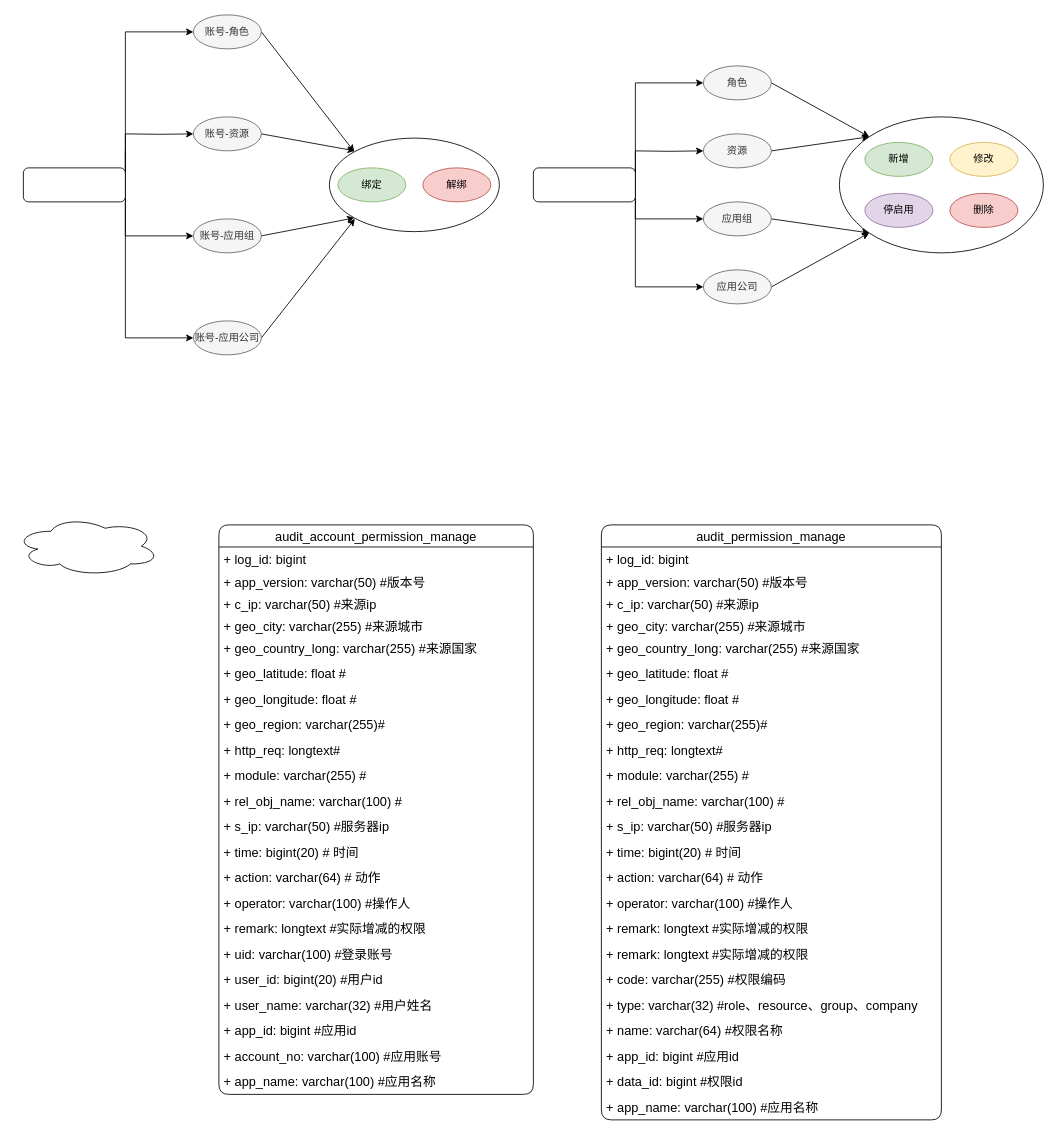
The diagram is 1058 pixels wide and 1137 high, and some of its shapes have lost their labels. Here are the shapes that lost their labels. From the top down, the centre of each, then its label:
the point at 74,184: 账号权限管理审计
the point at 584,184: 权限管理审计
the point at 86,546: 表结构设计
